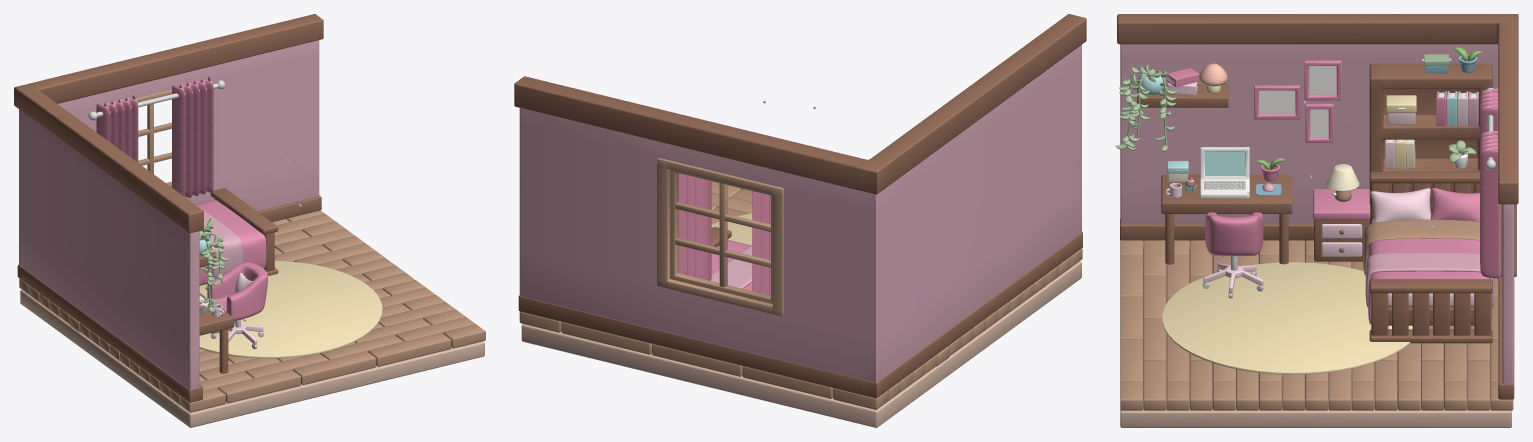
File: miniroom.gltf
3 renders of one model, left to right at view 1: azimuth 30°, elevation 25°; view 2: azimuth 150°, elevation 25°; view 3: azimuth 270°, elevation 25°, orthographic. The views are drawn at different scales.
Visible parts, largest first — view 1: Cube.1 (×2), Cube.2, Cylinder, Cube (×3), 커텐 2, Cube.3, Polygon, 커텐 1, Cube.2-서랍, Cube.1 36 (×2), Cube.1 30, Cube.1 20 (+13 smaller); view 2: Cube.1 (×3), Cube.2 (×2), Cube (×4), Cube.3, 커텐 2, 커텐 1, Cube.1 33, Cube.1 13, Cube.1 23, Cube.1 3, Cylinder; view 3: Cube.1 (×4), Cylinder (×2), Cube.2 (×4), Cube (×6), Cube.7, Cube.3 (×2), 책상, 커텐 2, Cube.2-서랍, Cube.1 35 (×2), Cube.2-Mfloor1, Cube.1 36 (×2) (+42 smaller).
Part boxes in pixels (bbox=[...]): Cube.1 (×2): bbox=[19, 40, 319, 389]; Cube.2: bbox=[14, 14, 323, 233]; Cylinder: bbox=[199, 260, 382, 358]; Cube (×3): bbox=[20, 103, 484, 427]; 커텐 2: bbox=[172, 77, 213, 197]; Cube.3: bbox=[17, 195, 321, 402]; Polygon: bbox=[207, 262, 267, 320]; 커텐 1: bbox=[96, 95, 138, 162]; Cube.2-서랍: bbox=[195, 199, 266, 285]; Cube.1 36 (×2): bbox=[274, 228, 454, 326]; Cube.1 30: bbox=[368, 332, 451, 366]; Cube.1 20: bbox=[293, 351, 376, 384]; Cube.1 (×3): bbox=[519, 45, 1081, 382]; Cube.2 (×2): bbox=[514, 14, 1086, 267]; Cube (×4): bbox=[521, 169, 1081, 427]; Cube.3: bbox=[518, 232, 1082, 398]; 커텐 2: bbox=[678, 173, 711, 280]; 커텐 1: bbox=[752, 191, 770, 295]; Cube.1 33: bbox=[561, 322, 651, 354]; Cube.1 13: bbox=[742, 366, 833, 398]; Cube.1 23: bbox=[652, 344, 742, 376]; Cube.1 3: bbox=[833, 388, 888, 409]; Cylinder: bbox=[711, 213, 752, 245]; Cube.1 (×4): bbox=[1120, 44, 1513, 384]; Cylinder (×2): bbox=[1162, 164, 1412, 374]; Cube.2 (×4): bbox=[1117, 14, 1518, 343]; Cube (×6): bbox=[1120, 188, 1511, 427]; Cube.7: bbox=[1369, 63, 1492, 224]; Cube.3 (×2): bbox=[1120, 219, 1514, 399]; 책상: bbox=[1161, 174, 1292, 213]; 커텐 2: bbox=[1480, 131, 1500, 278]; Cube.2-서랍: bbox=[1368, 238, 1491, 324]; Cube.1 35 (×2): bbox=[1143, 360, 1397, 410]; Cube.2-Mfloor1: bbox=[1363, 219, 1479, 275]; Cube.1 36 (×2): bbox=[1189, 360, 1443, 410].
Size of the model in its own units: 2.04 by 1.4 by 2.06.
